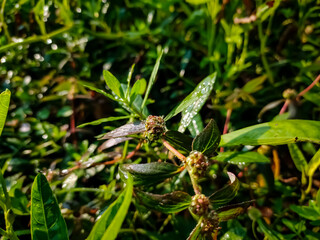snakeweed: (131, 150, 279, 239)
